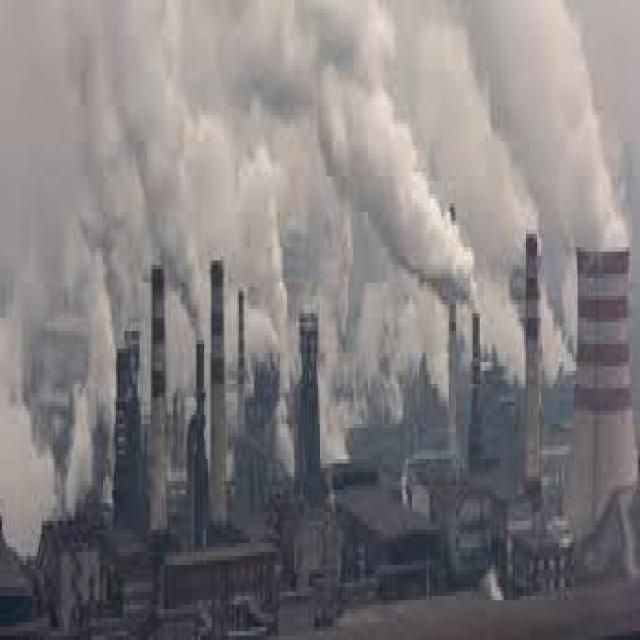smoke: (81, 4, 620, 406)
